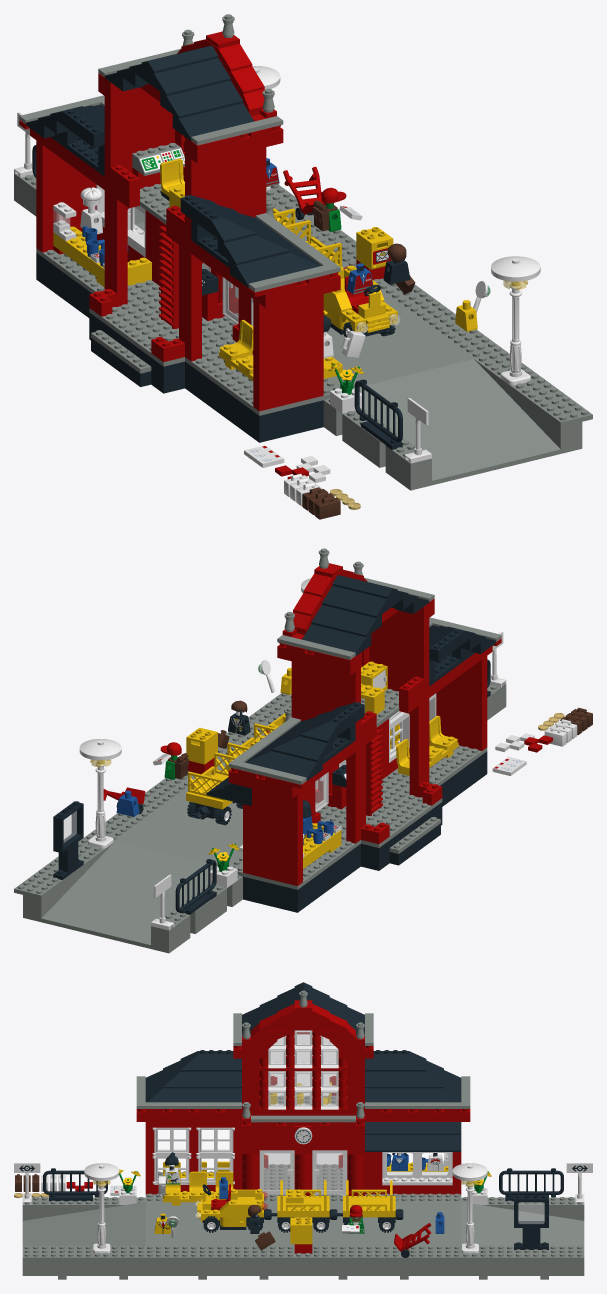
File: 011-train_station_no_people.glb
The picture shows the model from 3 angles, top to bottom: view 1: azimuth 30°, elevation 25°; view 2: azimuth 150°, elevation 25°; view 3: azimuth 270°, elevation 25°; orthographic projection. The views are drawn at different scales.
Parts seen in each view (by area): view 1: 2642.dat (×2), 3754.dat (×4), 2465.dat (×4), 3033.dat (×3), 2617.dat, 4282.dat (×3), 4161.dat (×4), 3007.dat (×3), 2454.dat (×2), 3036.dat (×3), 3297.dat (×3), 4162.dat (×3) (+21 smaller); view 2: 2642.dat, 3754.dat (×4), 2617.dat, 2465.dat (×4), 3033.dat (×2), 2454.dat (×2), 3007.dat (×3), 4282.dat (×3), 3036.dat (×3), 3297.dat (×3), 4161.dat (×3), 4509.dat (+15 smaller); view 3: 2642.dat (×2), 2617.dat (×2), 3297.dat (×12), 4282.dat (×3), 3034.dat (×3), 4344.dat (×2), 3675.dat (×4), 3006.dat (×2), 2583.dat (×2), 6556.dat (×3), 3033.dat (×2), 4162.dat (×3) (+17 smaller).
Part boxes in pixels (left/top/right/bottom): 2642.dat (×2): left=14, top=173, right=582, bottom=485; 3754.dat (×4): left=36, top=102, right=323, bottom=397; 2465.dat (×4): left=30, top=128, right=276, bottom=442; 3033.dat (×3): left=50, top=136, right=238, bottom=366; 2617.dat: left=326, top=291, right=460, bottom=381; 4282.dat (×3): left=266, top=184, right=542, bottom=380; 4161.dat (×4): left=160, top=80, right=254, bottom=141; 3007.dat (×3): left=53, top=127, right=283, bottom=386; 2454.dat (×2): left=104, top=217, right=201, bottom=347; 3036.dat (×3): left=73, top=271, right=340, bottom=415; 3297.dat (×3): left=69, top=113, right=290, bottom=287; 4162.dat (×3): left=191, top=116, right=340, bottom=292; 2642.dat: left=23, top=834, right=242, bottom=949; 3754.dat (×4): left=243, top=623, right=487, bottom=874; 2617.dat: left=126, top=773, right=242, bottom=860; 2465.dat (×4): left=283, top=645, right=492, bottom=912; 3033.dat (×2): left=315, top=783, right=442, bottom=847; 2454.dat (×2): left=346, top=721, right=429, bottom=831; 3007.dat (×3): left=277, top=644, right=440, bottom=868; 4282.dat (×3): left=56, top=693, right=291, bottom=858; 3036.dat (×3): left=229, top=745, right=487, bottom=889; 3297.dat (×3): left=271, top=632, right=459, bottom=781; 4161.dat (×3): left=311, top=605, right=381, bottom=656; 4509.dat: left=322, top=585, right=408, bottom=617; 2642.dat (×2): left=22, top=1197, right=584, bottom=1275; 2617.dat (×2): left=163, top=1202, right=443, bottom=1275; 3297.dat (×12): left=172, top=1050, right=461, bottom=1151; 4282.dat (×3): left=93, top=1249, right=513, bottom=1260; 3034.dat (×3): left=22, top=1177, right=584, bottom=1260; 4344.dat (×2): left=264, top=1153, right=345, bottom=1197; 3675.dat (×4): left=163, top=1050, right=443, bottom=1088; 3006.dat (×2): left=154, top=1109, right=452, bottom=1121; 2583.dat (×2): left=43, top=1168, right=563, bottom=1197; 6556.dat (×3): left=382, top=1152, right=548, bottom=1227; 3033.dat (×2): left=264, top=1164, right=345, bottom=1201; 4162.dat (×3): left=145, top=1102, right=461, bottom=1122.
Size of the model in its own units: 0.2155 by 0.2336 by 0.528.
